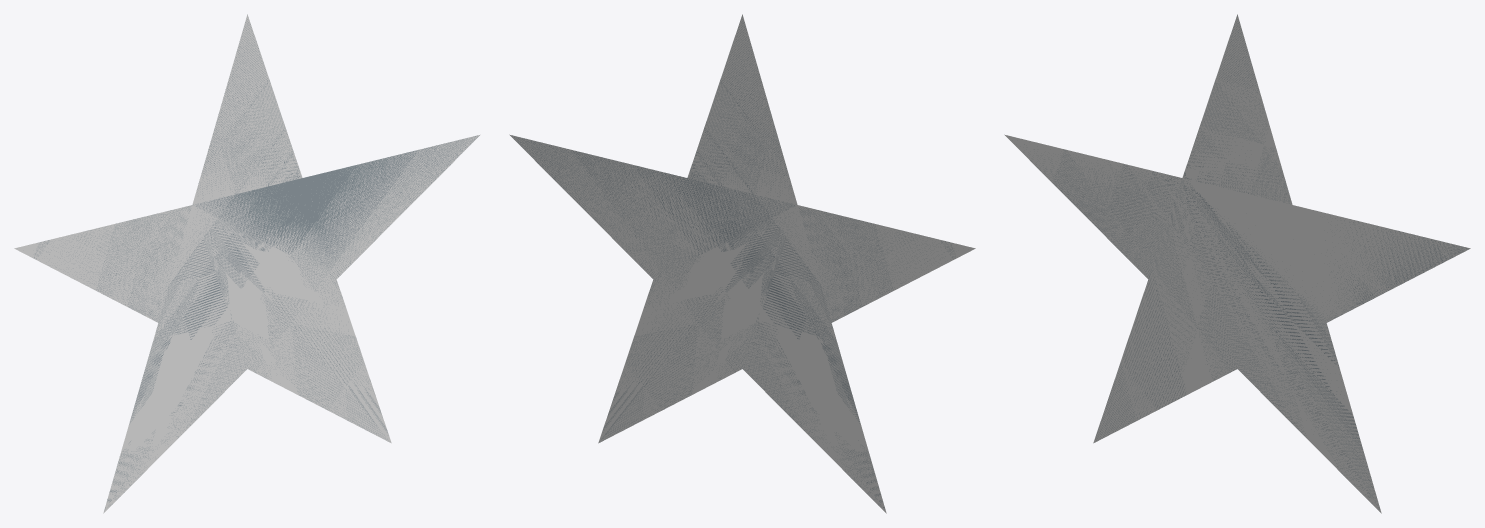
Rendered from Pentagon_star.obj.
3 renders of one model, left to right at view 1: azimuth 30°, elevation 25°; view 2: azimuth 150°, elevation 25°; view 3: azimuth 330°, elevation 25°, orthographic.
Visible parts, largest first — view 1: Mesh1 Model; view 2: Mesh1 Model; view 3: Mesh1 Model.
Part boxes in pixels (x1=…): Mesh1 Model: x1=14, y1=14, x2=480, y2=513; Mesh1 Model: x1=509, y1=14, x2=975, y2=513; Mesh1 Model: x1=1004, y1=14, x2=1470, y2=513.
Bounding box in the file's own units: 2.32 × 2.21 × 0.
